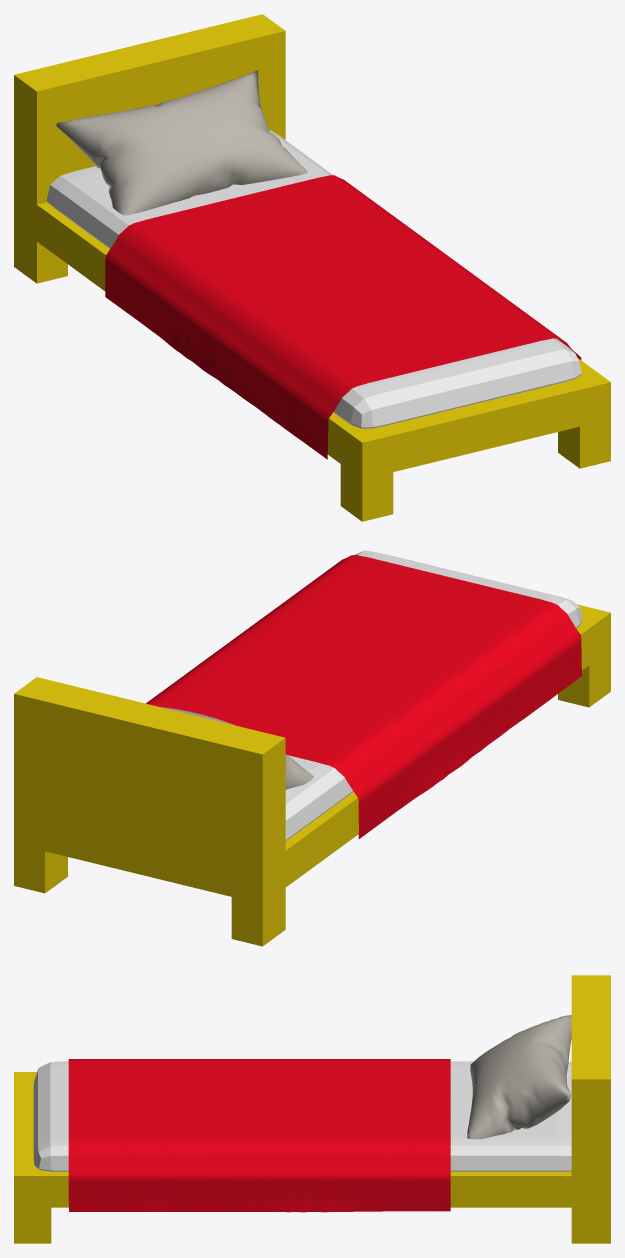
Rendered from Real bed2.fbx.
3 views of the same model, one above another, from view 1: azimuth 30°, elevation 25°; view 2: azimuth 150°, elevation 25°; view 3: azimuth 270°, elevation 25° (orthographic). The views are drawn at different scales.
Visible parts, largest first — view 1: Plane.001, Cube, Plane, Cube.001; view 2: Plane.001, Cube, Cube.001, Plane; view 3: Plane.001, Cube, Cube.001, Plane.
Part boxes in pixels (left/top/right/bottom): Plane.001: left=105, top=175, right=581, bottom=459; Cube: left=14, top=14, right=610, bottom=521; Plane: left=56, top=70, right=307, bottom=215; Cube.001: left=46, top=130, right=581, bottom=428; Plane.001: left=146, top=555, right=581, bottom=838; Cube: left=14, top=604, right=610, bottom=946; Cube.001: left=285, top=550, right=582, bottom=840; Plane: left=160, top=707, right=313, bottom=789; Plane.001: left=68, top=1059, right=450, bottom=1212; Cube: left=14, top=975, right=610, bottom=1243; Cube.001: left=33, top=1061, right=571, bottom=1171; Plane: left=467, top=1015, right=571, bottom=1139.
Size of the model in its own units: 406 by 289 by 950.
